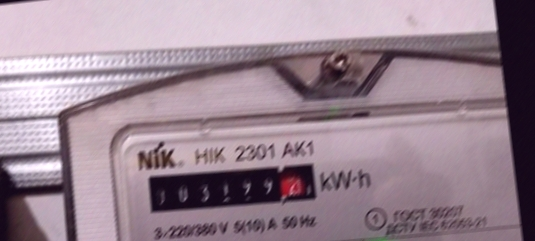0: (176, 182, 191, 203), (154, 185, 168, 207)
1: (220, 177, 232, 197)
3: (199, 182, 212, 203)
6: (288, 181, 300, 198)
9: (241, 175, 254, 197), (262, 175, 275, 195)
screen: (141, 152, 328, 227)
